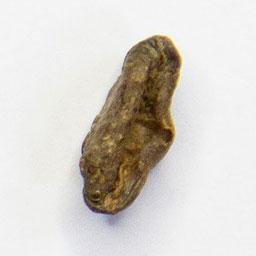defect: (77, 31, 184, 217)
